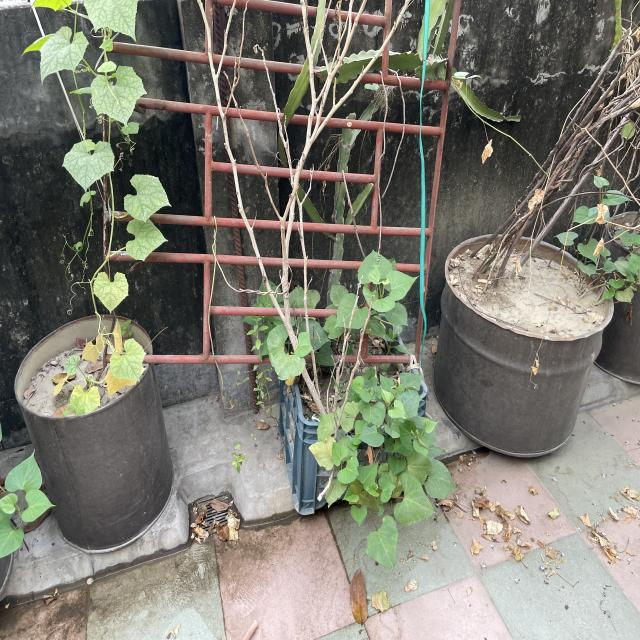Breeding Place: (12, 321, 175, 549), (443, 231, 604, 454), (286, 330, 420, 506)
